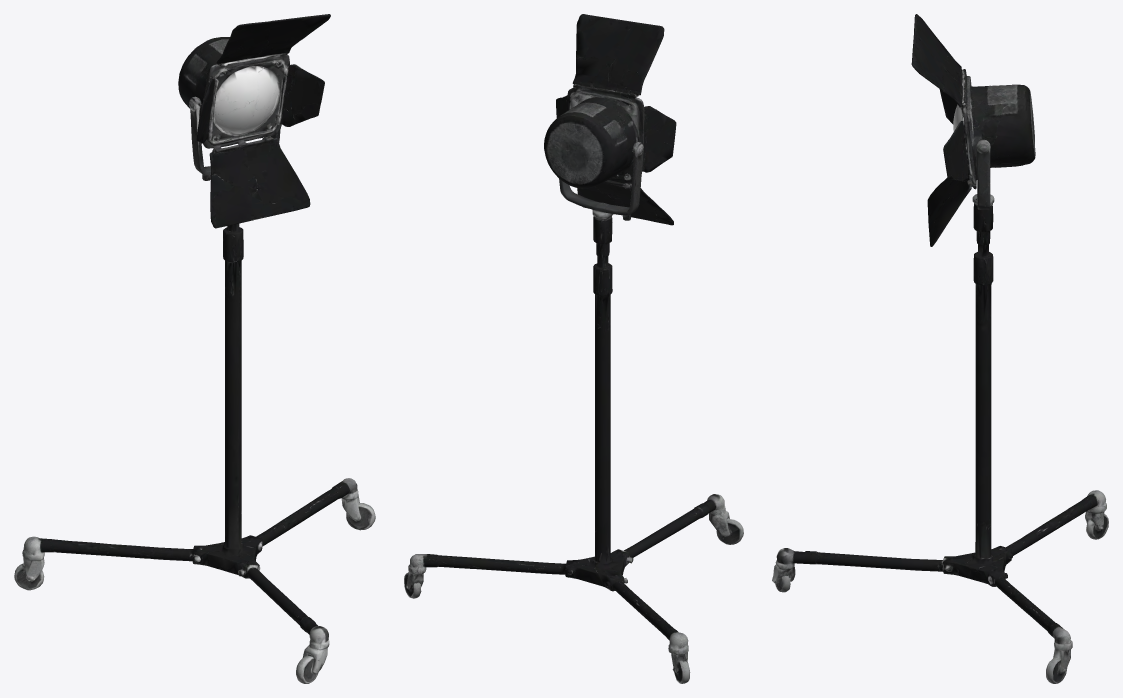
File: spotlight.glb
3 renders of one model, left to right at view 1: azimuth 30°, elevation 25°; view 2: azimuth 150°, elevation 25°; view 3: azimuth 270°, elevation 25°, orthographic. The views are drawn at different scales.
Bounding box in the file's own units: 1.09 × 1.9 × 1.
Materials: 1 (1 with a texture image).
